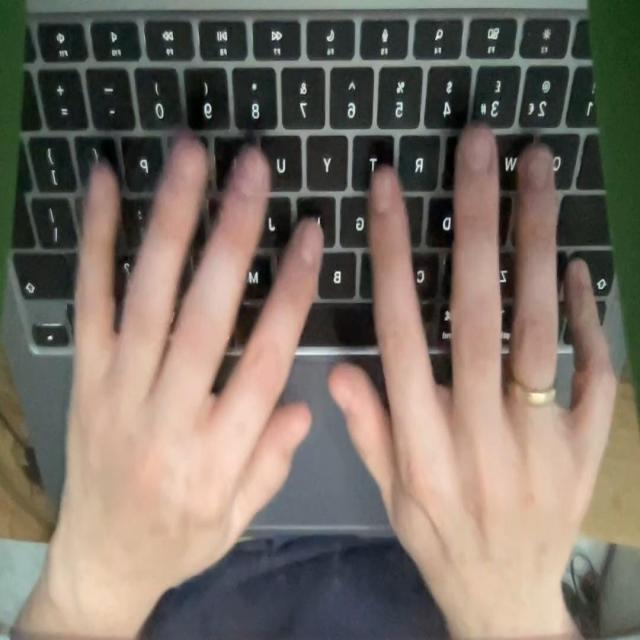keyboard-with-hands: (1, 0, 627, 533)
